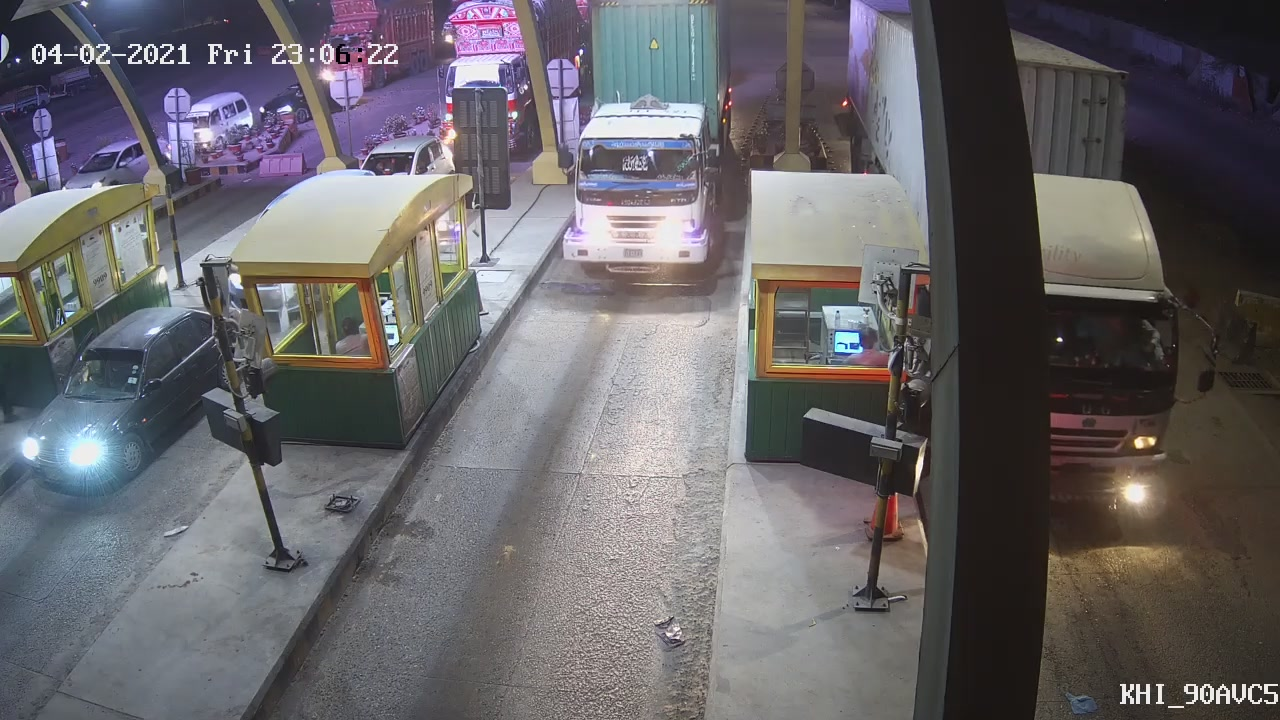F6: (558, 6, 732, 286)
